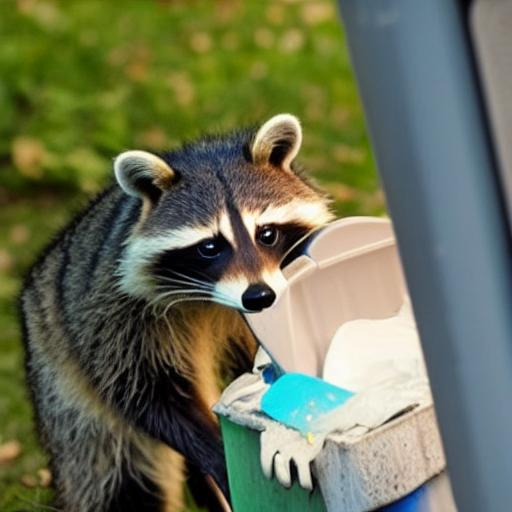raccoon: (13, 108, 343, 512)
